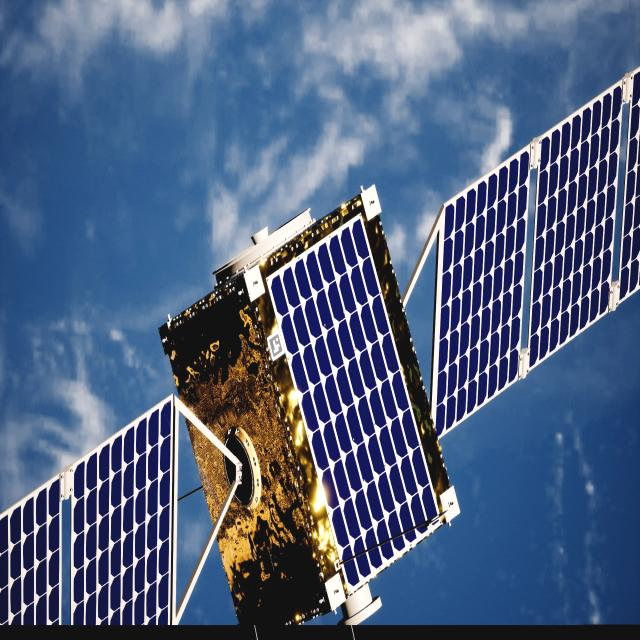satellite: (0, 70, 640, 629)
